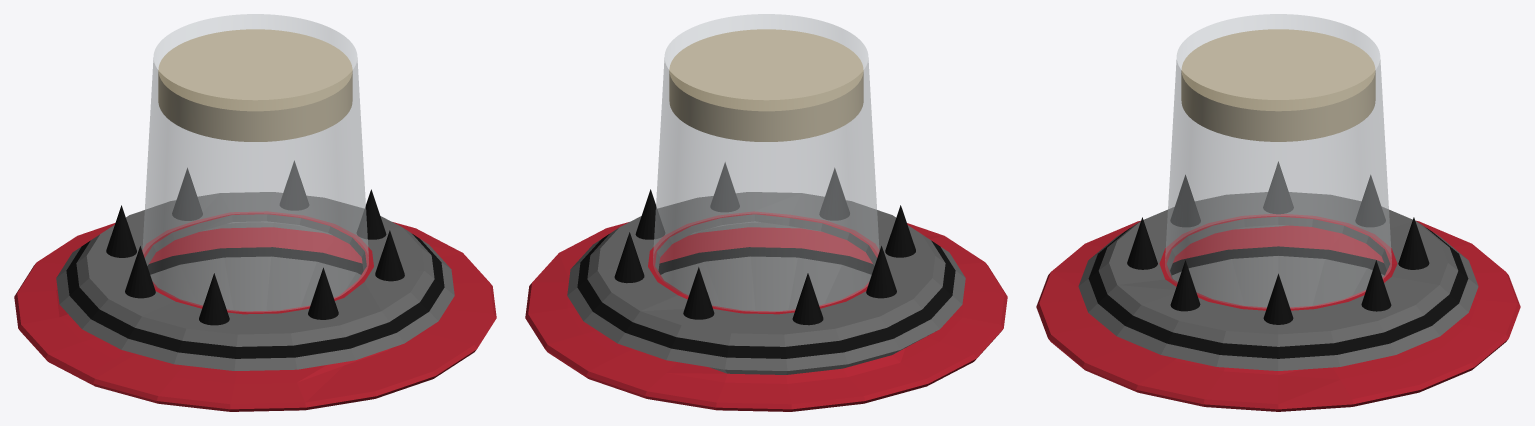
Rendered from fable_t03.glb.
3 views of the same model, side by side, from view 1: azimuth 30°, elevation 25°; view 2: azimuth 150°, elevation 25°; view 3: azimuth 270°, elevation 25° (orthographic).
Visible parts, largest first — view 1: slot_anchor_saucer, glass_cover, brown_disc; view 2: slot_anchor_saucer, glass_cover, brown_disc; view 3: slot_anchor_saucer, glass_cover, brown_disc.
Part boxes in pixels (bbox=[...]): slot_anchor_saucer: bbox=[14, 161, 496, 411]; glass_cover: bbox=[142, 14, 368, 311]; brown_disc: bbox=[158, 29, 352, 141]; slot_anchor_saucer: bbox=[525, 162, 1007, 411]; glass_cover: bbox=[653, 14, 879, 311]; brown_disc: bbox=[669, 29, 863, 141]; slot_anchor_saucer: bbox=[1036, 161, 1520, 411]; glass_cover: bbox=[1165, 14, 1391, 308]; brown_disc: bbox=[1181, 29, 1375, 141].
Size of the model in its own units: 2 by 1.48 by 2.
Materials: 3 (1 with a texture image).
